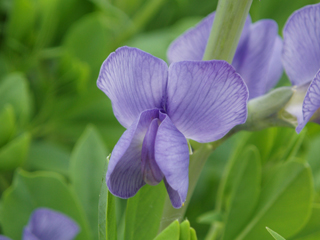violet: (86, 42, 247, 215)
